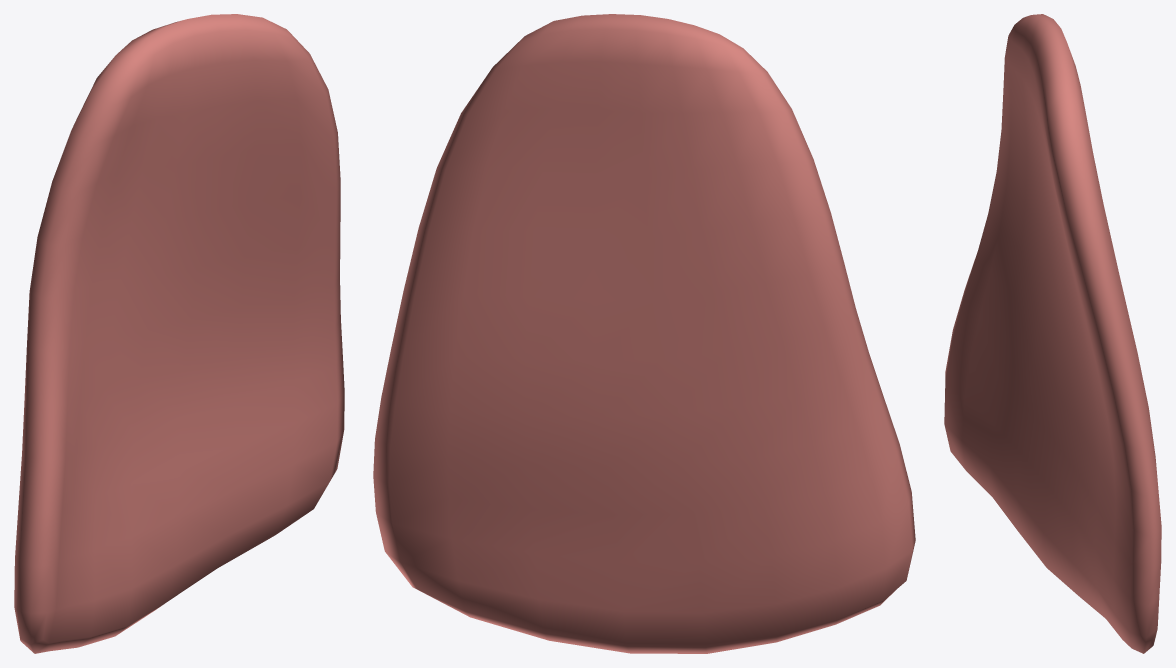
The picture shows the model from 3 angles, left to right: view 1: azimuth 30°, elevation 25°; view 2: azimuth 150°, elevation 25°; view 3: azimuth 270°, elevation 25°; orthographic projection. The views are drawn at different scales.
Visible parts, largest first — view 1: ZA_8e9a76d77b2cb63a; view 2: ZA_8e9a76d77b2cb63a; view 3: ZA_8e9a76d77b2cb63a.
Part boxes in pixels (box(x1,y1,x2,y2)): ZA_8e9a76d77b2cb63a: box(14, 14, 344, 653); ZA_8e9a76d77b2cb63a: box(373, 14, 915, 653); ZA_8e9a76d77b2cb63a: box(944, 14, 1161, 653).
Bounding box in the file's own units: 0.0209 × 0.0283 × 0.0097.
